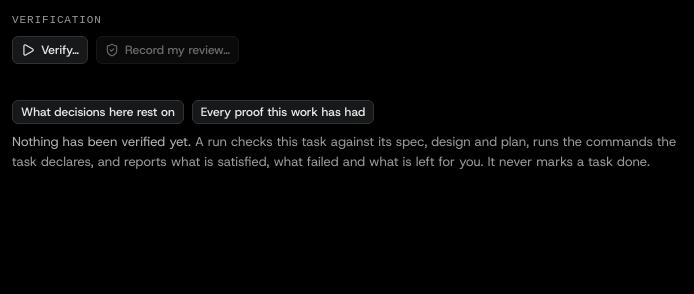
Test: what a decision rests on › tells a decision that rested on nothing from one nobody kept a record for
Click the button "What decisions here rest on".
click(98, 112)  # box 12,100 -> 184,124
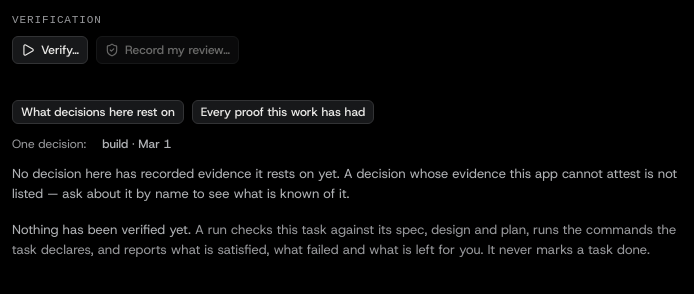
Expected: the button "build · Mar 1" is shown
Click the button "build · Mar 1".
click(137, 144)  # box 94,132 -> 180,156
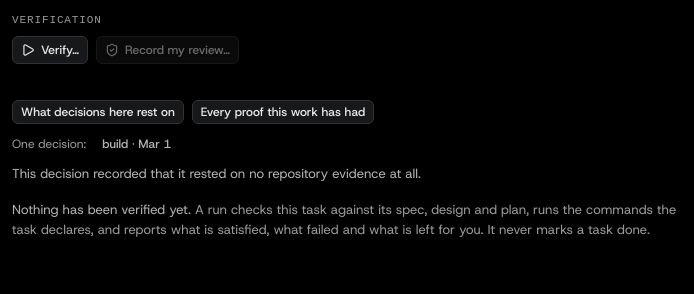
Expected: the button "build · Mar 1" is shown
Expected: the text "recorded that it rested on no repository evidence at all" is shown, 12,165 -> 421,182
Click the button "build · Mar 1".
click(137, 144)  # box 94,132 -> 180,156
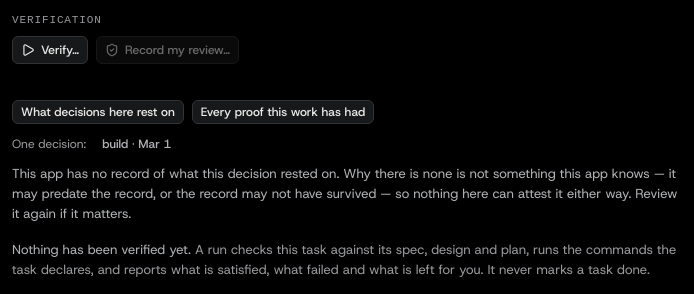
Expected: the text "no record of what this decision rested on" is shown, 12,165 -> 677,222
Expected: the text "it may predate the record, or the record may not have survived" is shown, 12,165 -> 677,222
Expected: the text "Review it again if it matters" is shown, 12,165 -> 677,222
